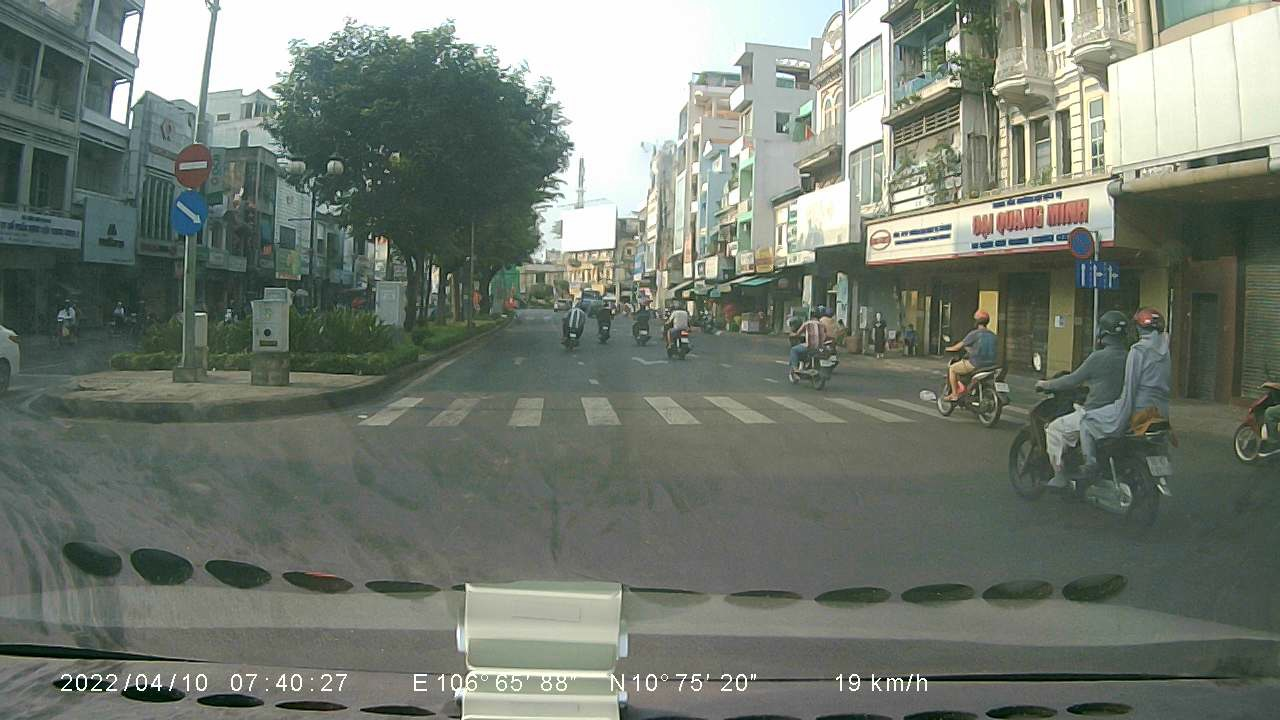Bien khac: (1072, 257, 1122, 291)
Cam di nguoc chieu: (173, 142, 213, 187)
Cam do xe: (1066, 222, 1098, 259)
Huong di phai re phai: (169, 189, 206, 234)
